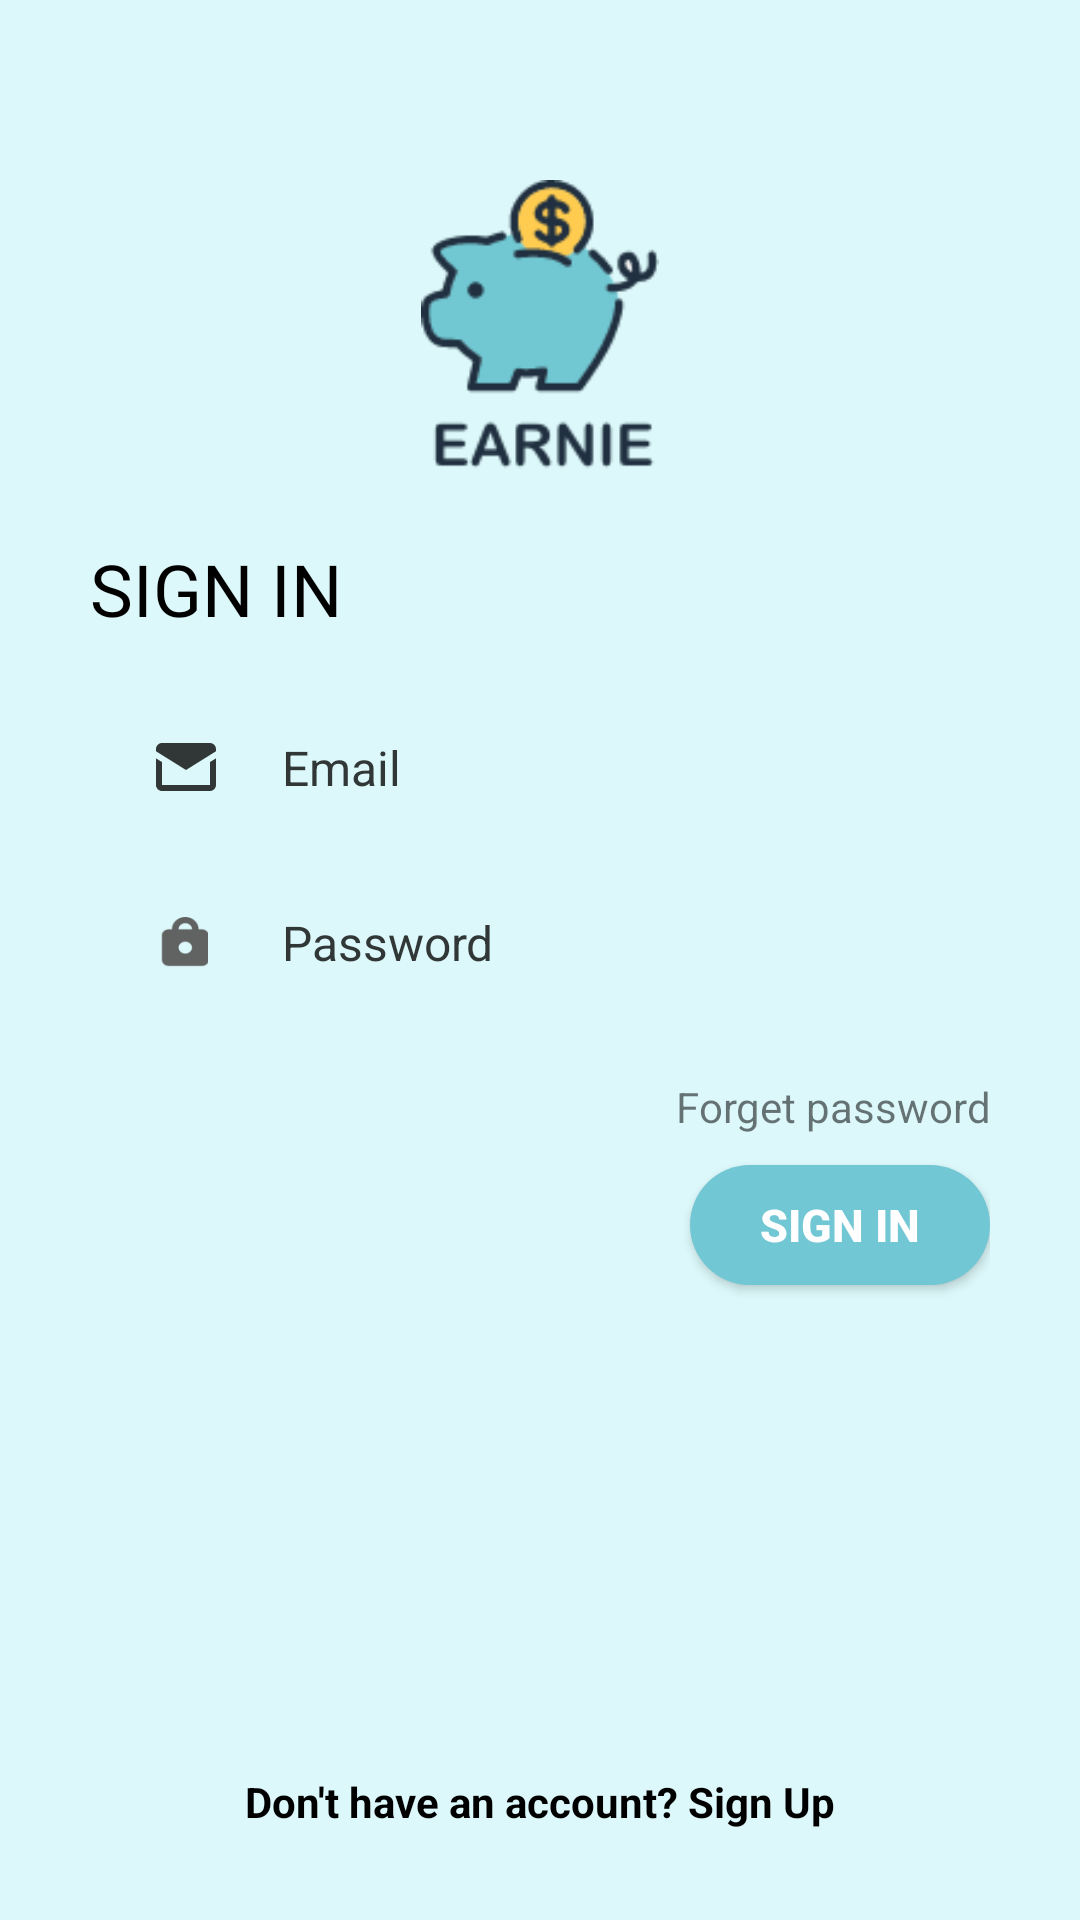

Point at icon controls on the screen. Image size 1080×1920, points as (x,y).
lock: (184,941)
